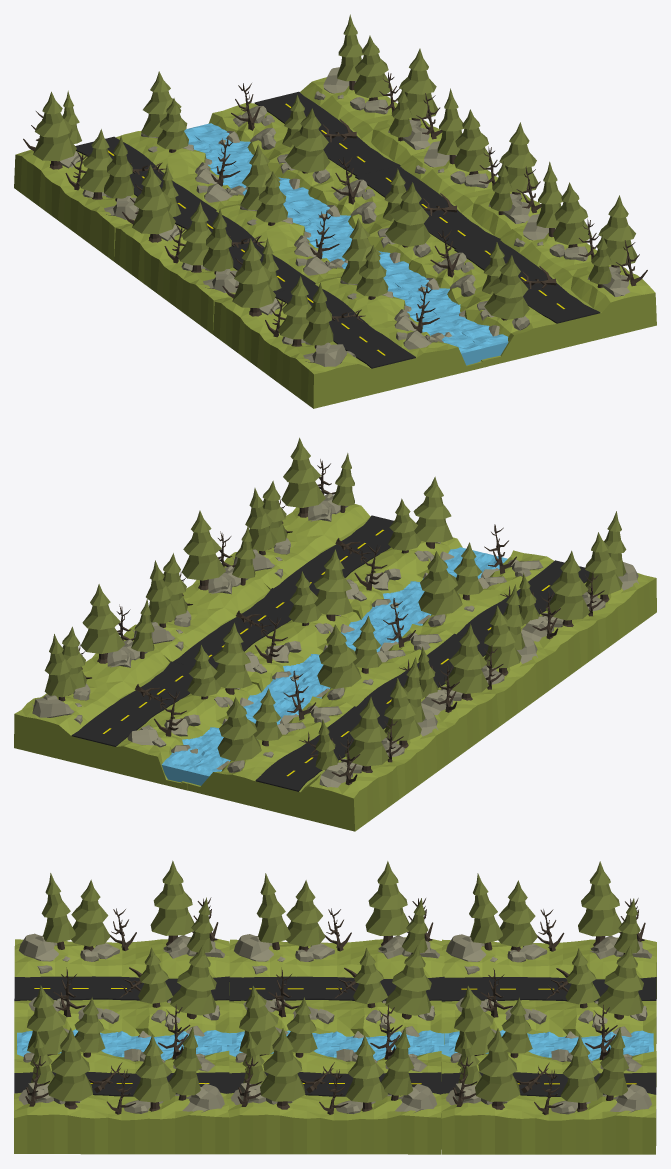
Rendered from nivel.glb.
The picture shows the model from 3 angles, top to bottom: view 1: azimuth 30°, elevation 25°; view 2: azimuth 150°, elevation 25°; view 3: azimuth 270°, elevation 25°; orthographic projection. The views are drawn at different scales.
Visible parts, largest first — view 1: Water, Water.001; view 2: Water, Water.001; view 3: Water, Water.001.
Boxes of the visible parts, <box> form: Water: <box>188,14,656,366</box>; Water.001: <box>14,71,488,408</box>; Water: <box>14,437,485,790</box>; Water.001: <box>181,511,656,831</box>; Water: <box>14,985,656,1154</box>; Water.001: <box>14,860,656,1054</box>.
Size of the model in its own units: 16.1 by 5.31 by 23.94.
